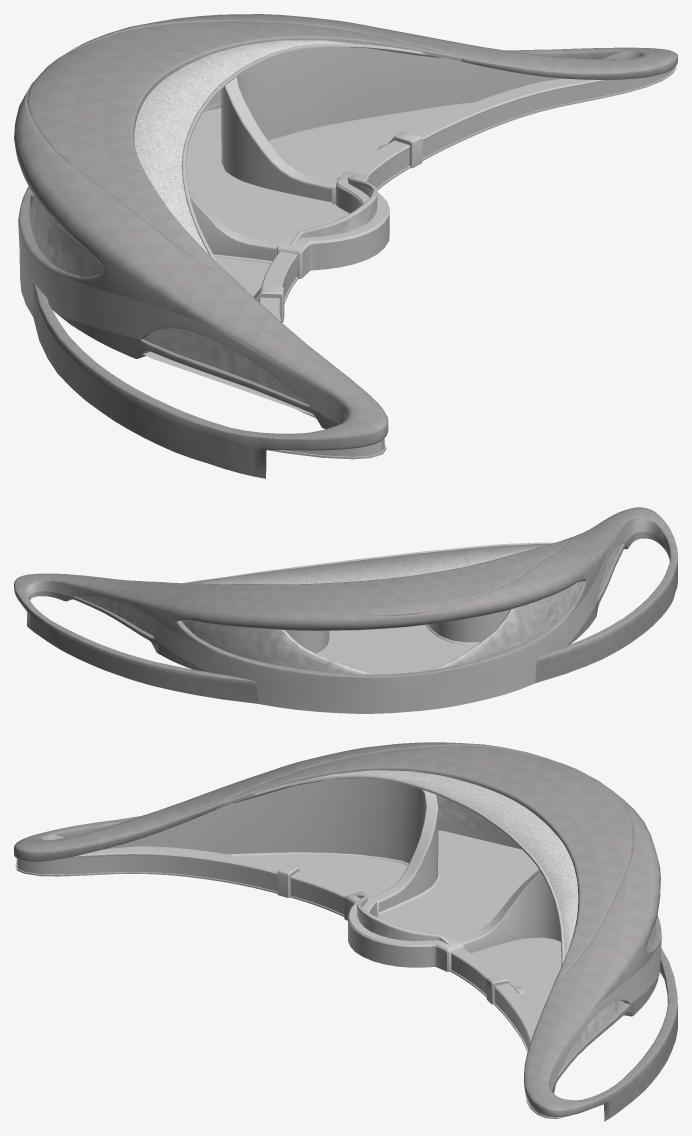
Rendered from pref_sm_beach_techpagoda01_mirror_lv3.fbx.
3 views of the same model, one above another, from view 1: azimuth 30°, elevation 25°; view 2: azimuth 150°, elevation 25°; view 3: azimuth 270°, elevation 25° (orthographic). The views are drawn at different scales.
Parts seen in each view (by area): view 1: sm_beach_techpagoda01_mirror_b_lv3, sm_beach_techpagoda01_mirror_d_lv3, sm_beach_techpagoda01_mirror_e_lv3, sm_beach_techpagoda01_mirror_c_lv3, sm_beach_techpagoda01_mirror_a_lv3; view 2: sm_beach_techpagoda01_mirror_c_lv3, sm_beach_techpagoda01_mirror_b_lv3, sm_beach_techpagoda01_mirror_d_lv3, sm_beach_techpagoda01_mirror_a_lv3, sm_beach_techpagoda01_mirror_e_lv3; view 3: sm_beach_techpagoda01_mirror_d_lv3, sm_beach_techpagoda01_mirror_c_lv3, sm_beach_techpagoda01_mirror_b_lv3, sm_beach_techpagoda01_mirror_e_lv3, sm_beach_techpagoda01_mirror_a_lv3.
Part boxes in pixels (<box>): sm_beach_techpagoda01_mirror_b_lv3: <box>14,80,388,478</box>; sm_beach_techpagoda01_mirror_d_lv3: <box>18,89,474,459</box>; sm_beach_techpagoda01_mirror_e_lv3: <box>208,43,676,202</box>; sm_beach_techpagoda01_mirror_c_lv3: <box>32,14,677,111</box>; sm_beach_techpagoda01_mirror_a_lv3: <box>29,40,439,404</box>; sm_beach_techpagoda01_mirror_c_lv3: <box>14,573,420,703</box>; sm_beach_techpagoda01_mirror_b_lv3: <box>404,507,677,683</box>; sm_beach_techpagoda01_mirror_d_lv3: <box>316,519,666,711</box>; sm_beach_techpagoda01_mirror_a_lv3: <box>75,544,622,674</box>; sm_beach_techpagoda01_mirror_e_lv3: <box>26,556,405,713</box>; sm_beach_techpagoda01_mirror_d_lv3: <box>15,775,561,1020</box>; sm_beach_techpagoda01_mirror_c_lv3: <box>505,768,677,1121</box>; sm_beach_techpagoda01_mirror_b_lv3: <box>14,742,575,861</box>; sm_beach_techpagoda01_mirror_e_lv3: <box>450,809,661,1118</box>; sm_beach_techpagoda01_mirror_a_lv3: <box>233,770,656,1071</box>.
Bounding box in the file's own units: 48.73 × 9.82 × 45.2.
